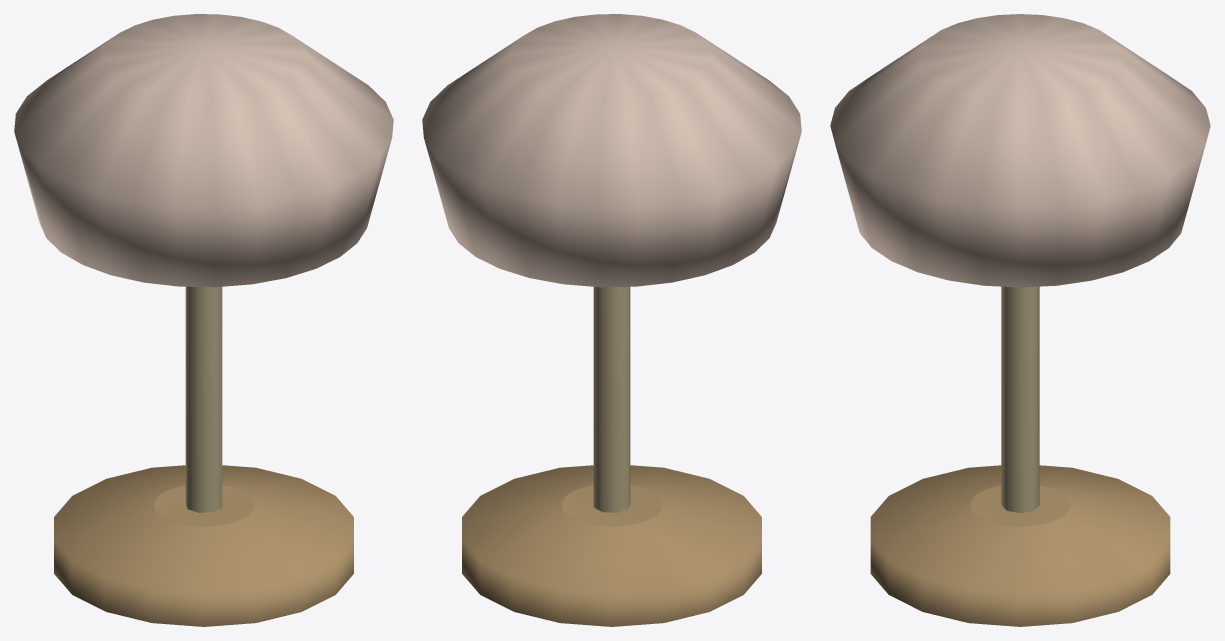
File: furn_shell_lamp.glb
3 views of the same model, side by side, from view 1: azimuth 30°, elevation 25°; view 2: azimuth 150°, elevation 25°; view 3: azimuth 270°, elevation 25° (orthographic).
Visible parts, largest first — view 1: furn_shell_lamp_main; view 2: furn_shell_lamp_main; view 3: furn_shell_lamp_main.
Boxes of the visible parts, x1,y1,x2,y2 form: furn_shell_lamp_main: (14, 14, 393, 626); furn_shell_lamp_main: (422, 14, 801, 626); furn_shell_lamp_main: (830, 14, 1210, 626).
Size of the model in its own units: 0.3 by 0.45 by 0.3.
